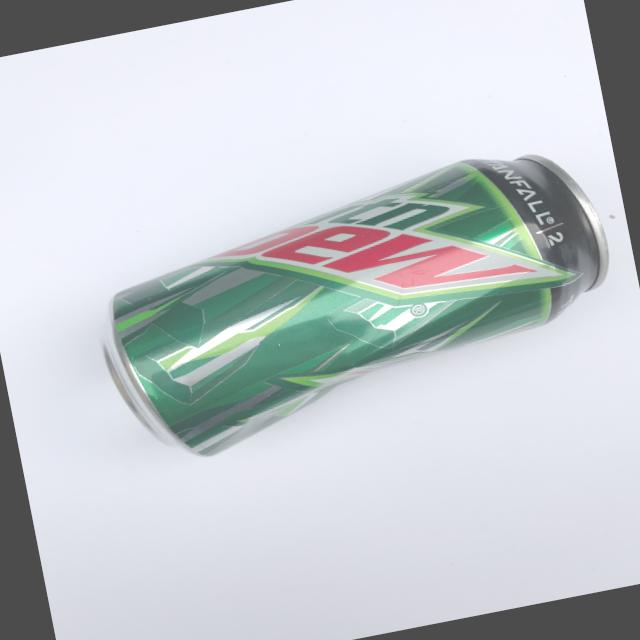Metal: (66, 117, 640, 480)
